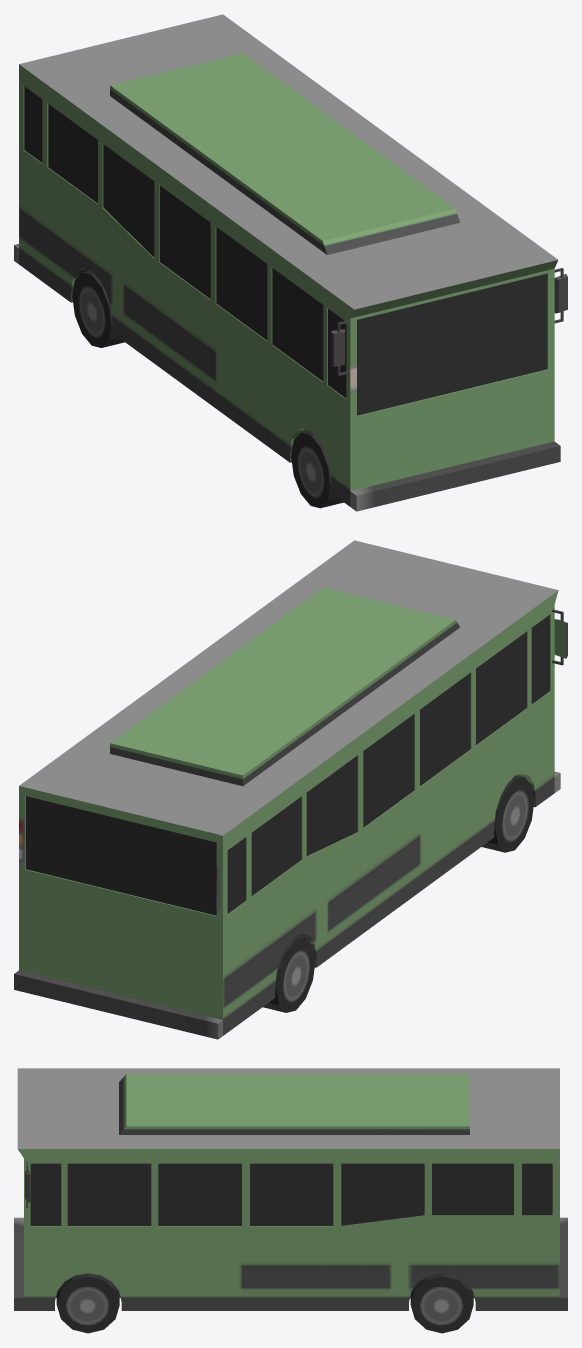
File: Vehicle_Bus.fbx
The picture shows the model from 3 angles, top to bottom: view 1: azimuth 30°, elevation 25°; view 2: azimuth 150°, elevation 25°; view 3: azimuth 270°, elevation 25°; orthographic projection. The views are drawn at different scales.
Visible parts, largest first — view 1: Vehicle_Bus; view 2: Vehicle_Bus; view 3: Vehicle_Bus.
Part boxes in pixels (bbox=[...]): Vehicle_Bus: bbox=[14, 14, 567, 511]; Vehicle_Bus: bbox=[14, 540, 567, 1039]; Vehicle_Bus: bbox=[14, 1068, 567, 1333].
Size of the model in its own units: 369 by 358 by 930.
